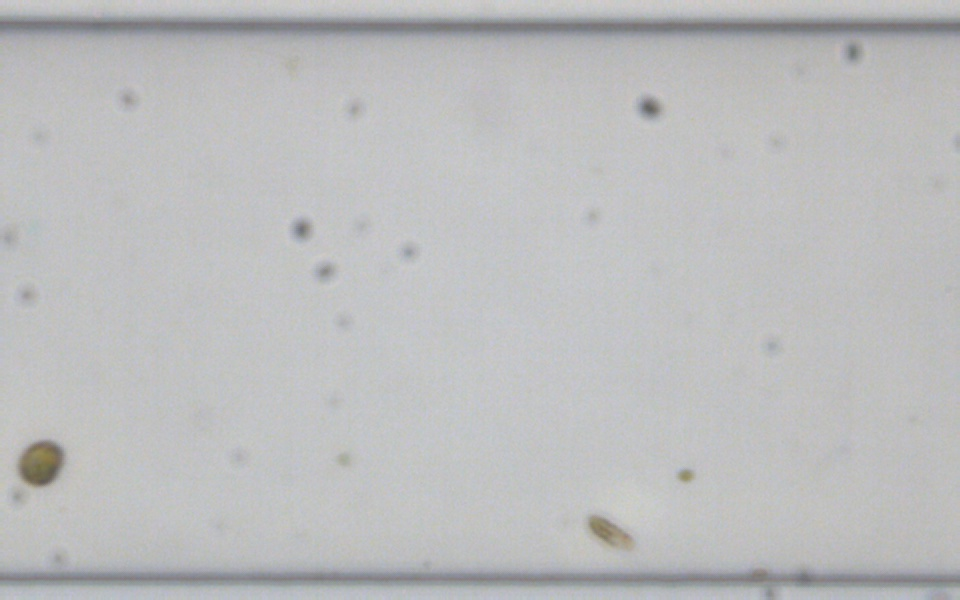Chlorella: (676, 467, 694, 483)
Dunaliella salina: (582, 510, 637, 556)
Effrenium: (13, 436, 66, 487)
